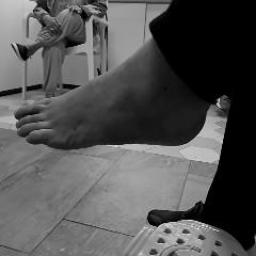Lateral View -Left Foot-: (7, 52, 224, 159)
